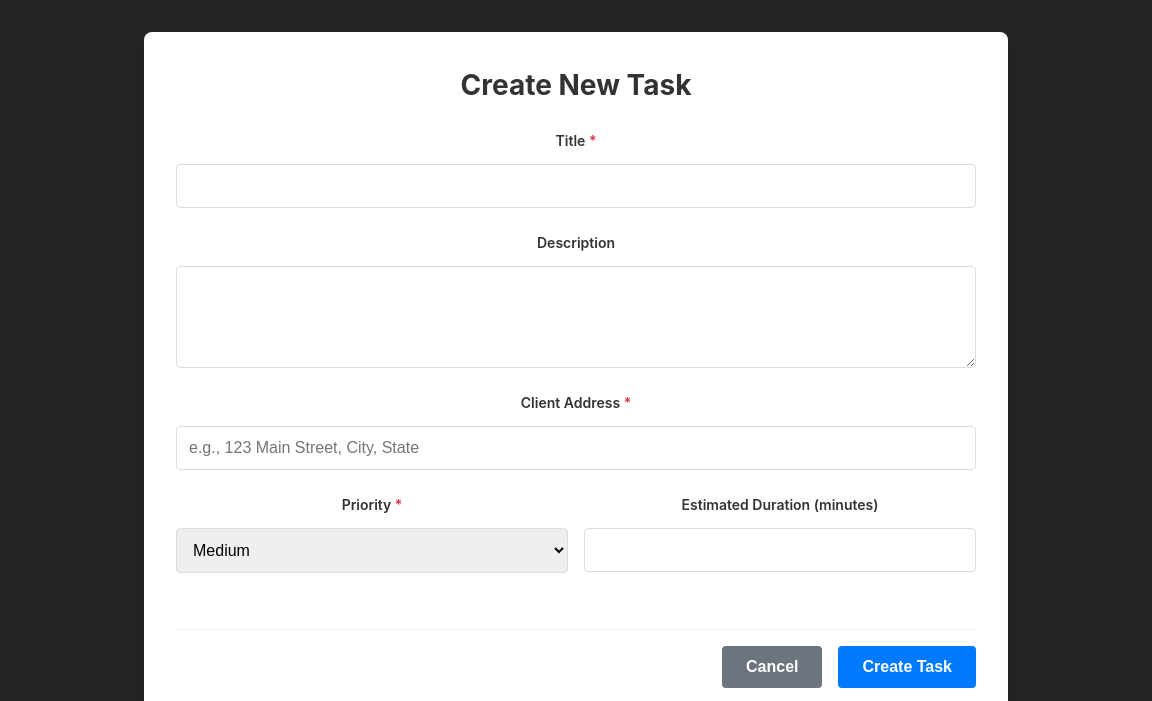
Scenario: TaskForm Component › should show validation error when address is too short
The width and height of the screenshot is (1152, 701).
Type "Valid Title" into the field labelled "Title *" at point(576, 186), box [176,164,976,208]
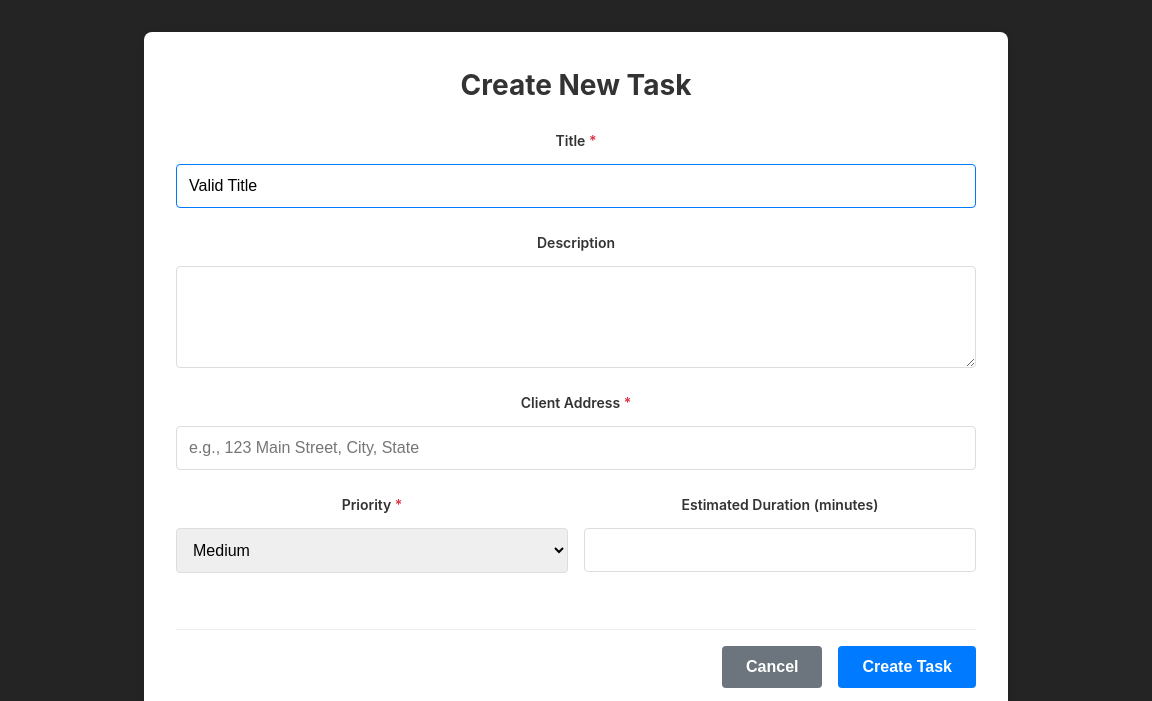
Type "A1" into the field labelled "Client Address *" at point(576, 448), box [176,426,976,470]
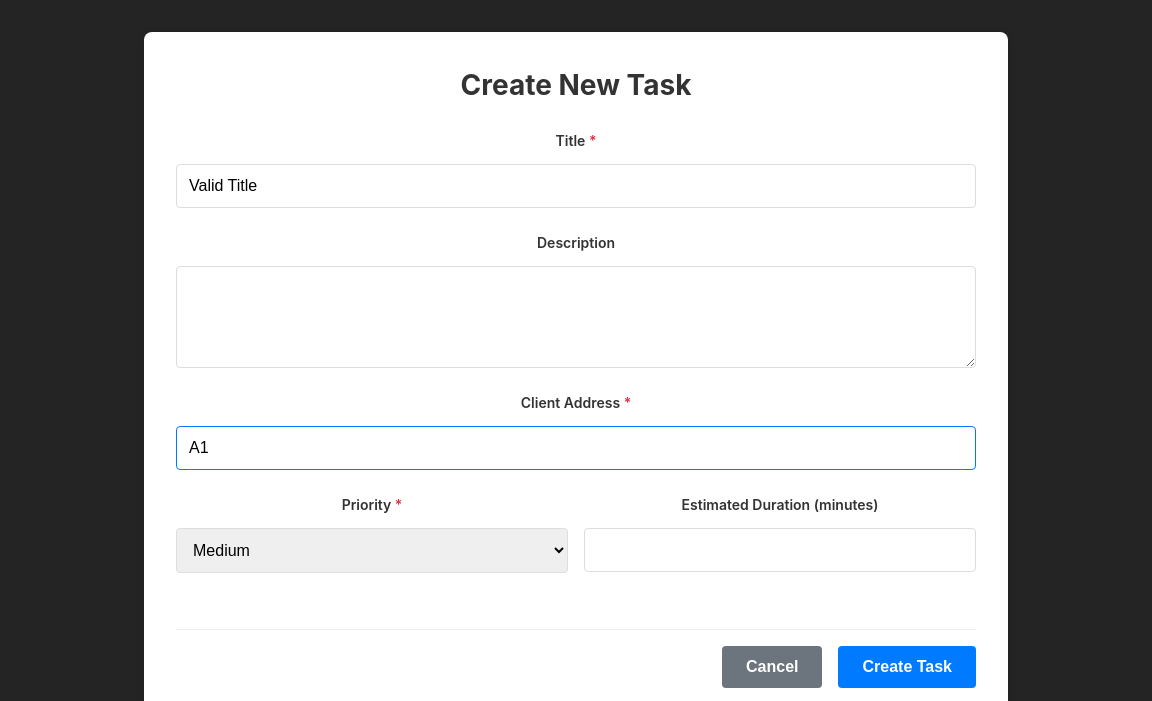
Click the button "Create Task" at point(907, 667), box [838,646,976,688]
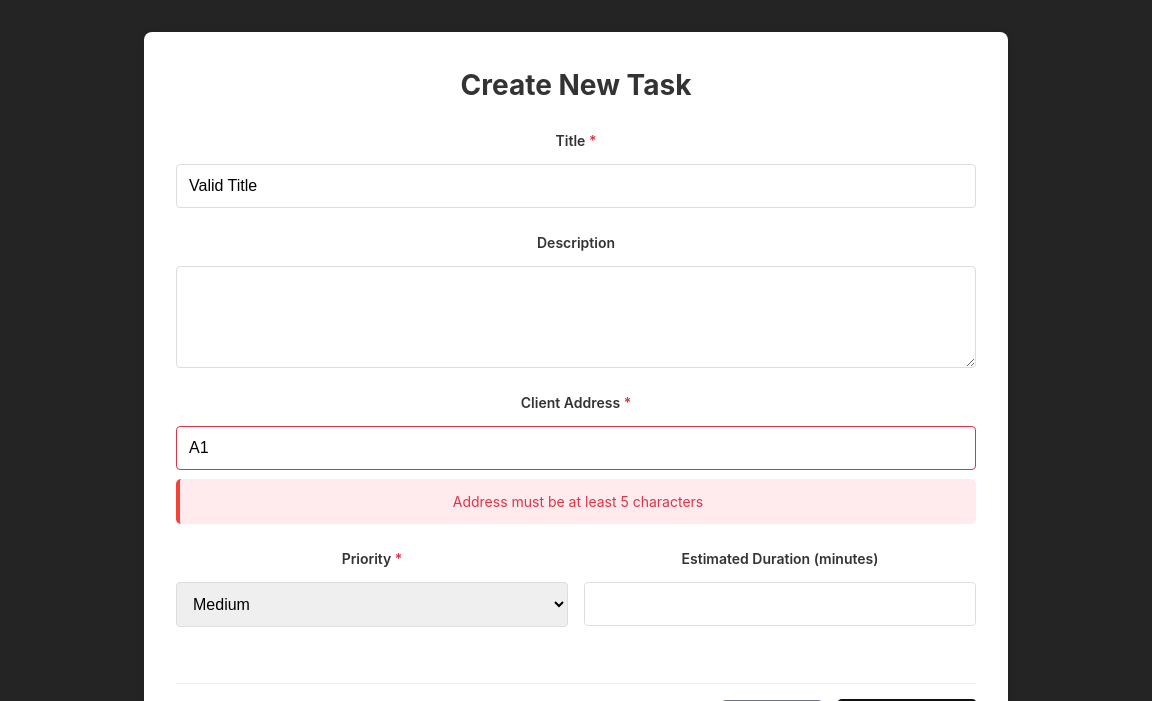
Check: the text "Address must be at least 5 characters" is shown, box [176,479,976,524]
